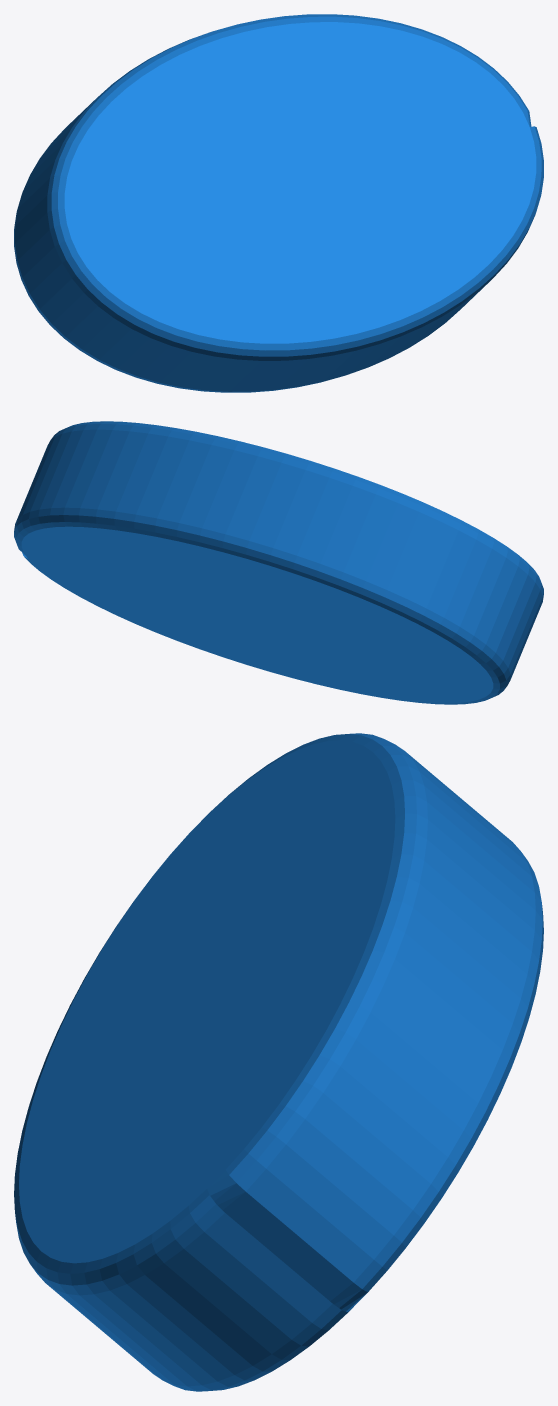
Rendered from oval.glb.
3 views of the same model, one above another, from view 1: azimuth 30°, elevation 25°; view 2: azimuth 150°, elevation 25°; view 3: azimuth 270°, elevation 25° (orthographic). The views are drawn at different scales.
Size of the model in its own units: 1.51 by 0.895 by 0.8636.
